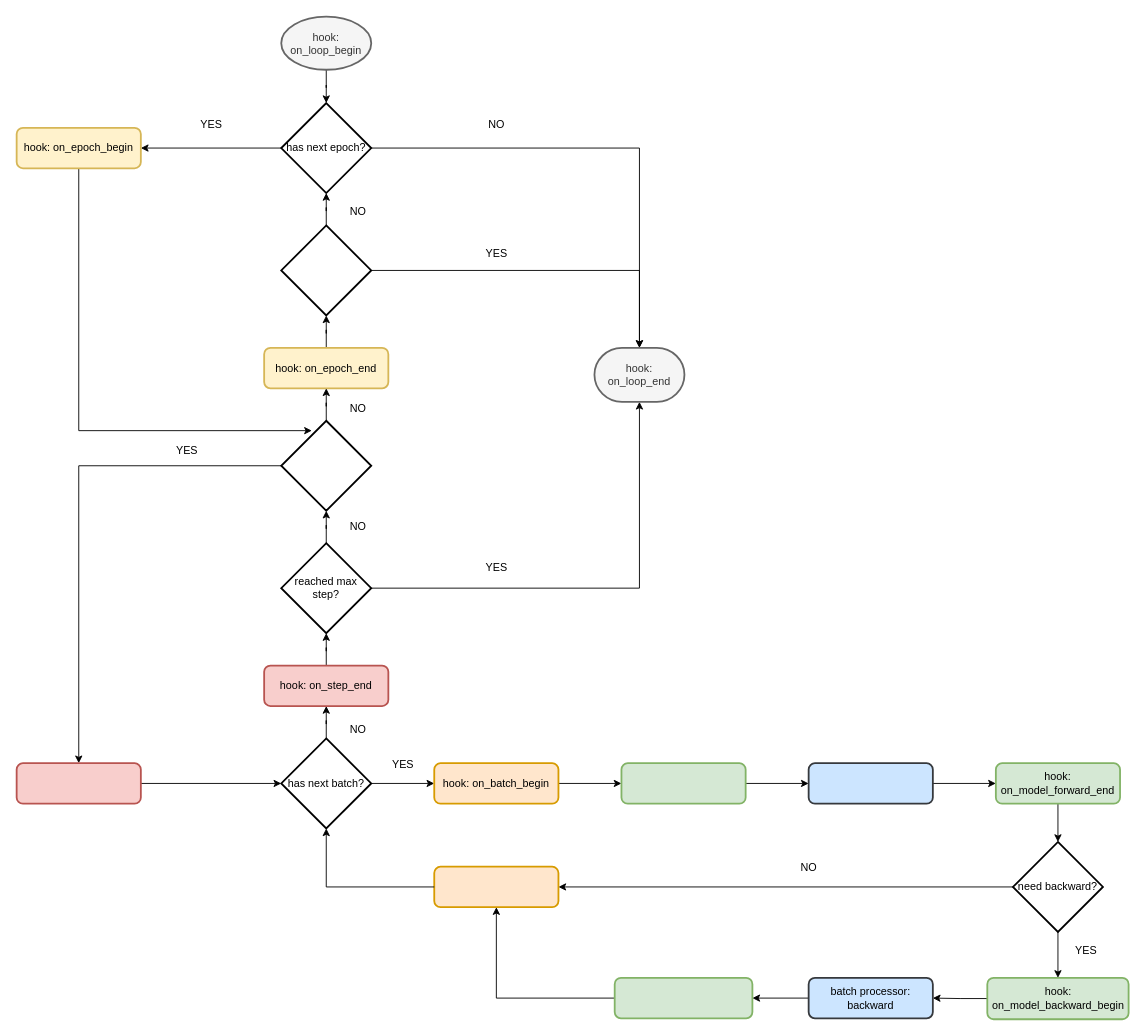
This 1145x1035 diagram has some shape labels left out. Here are the shapes that lost their labels. From the top down, the box of each, then its label:
(280, 224, 372, 316): reached max epoch?
(280, 419, 372, 511): has next step?
(15, 762, 141, 804): hook: on_step_begin
(620, 762, 746, 804): hook: on_model_forward_begin
(807, 762, 933, 804): batch processor: forward
(433, 865, 559, 908): hook: on_batch_end
(613, 976, 753, 1019): hook: on_model_backward_end
